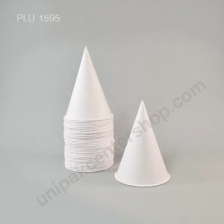paper_cup: (57, 42, 119, 176), (107, 94, 176, 190)
